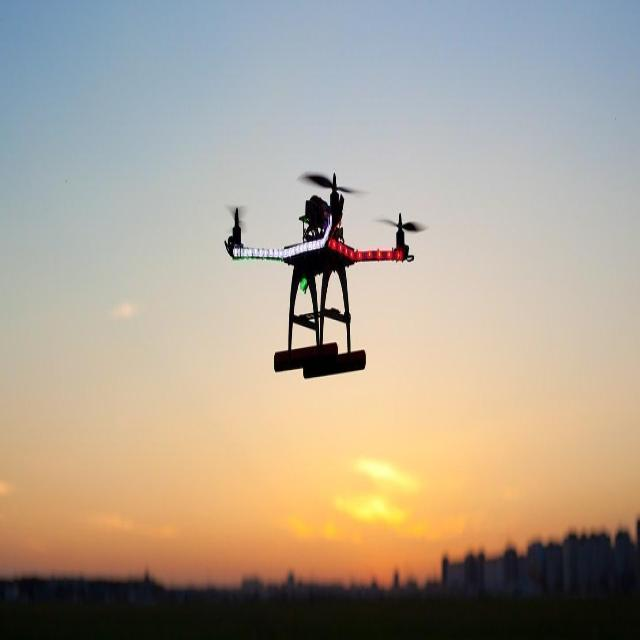drone: (221, 168, 430, 384)
